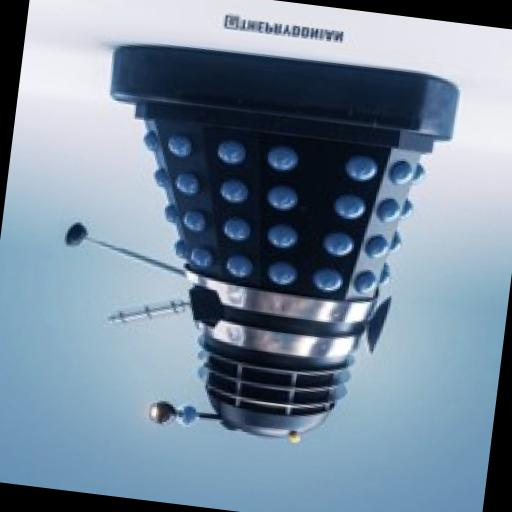dalek: (37, 32, 466, 468)
